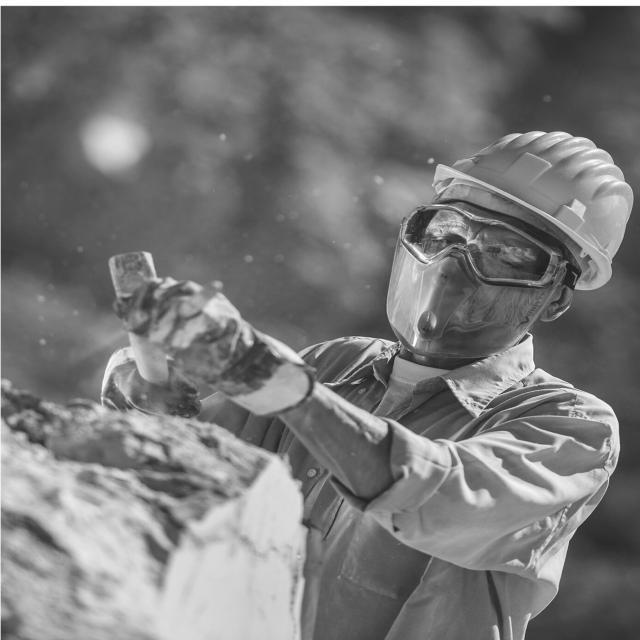safety_helmet: (432, 131, 634, 294)
